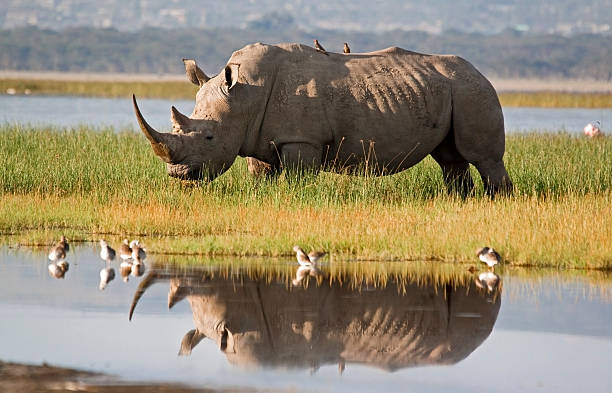rhino: (102, 35, 277, 190)
